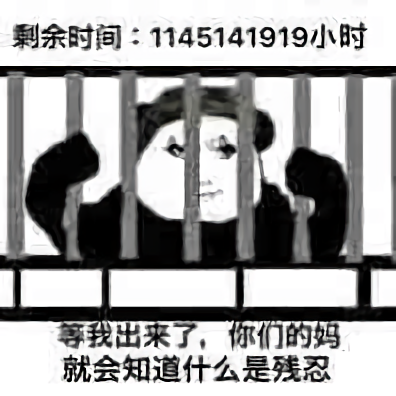dragon: (160, 130, 244, 211)
